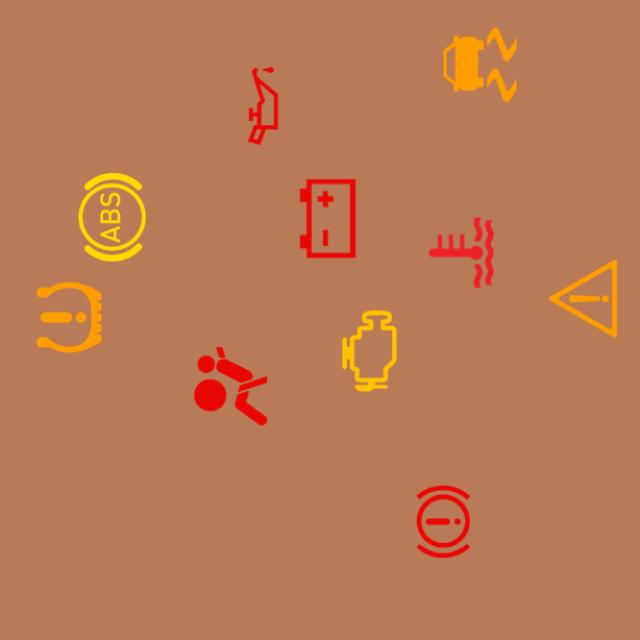Anti Lock Braking System: (64, 169, 160, 266)
Braking System Issue: (395, 473, 492, 570)
Charging System Issue: (279, 170, 376, 267)
Check Engine: (321, 302, 418, 399)
Electronic Stability Problem -ESP-: (432, 17, 528, 114)
Engine Overheating Warning Light: (412, 205, 510, 302)
Low Engine Oil Warning Light: (215, 58, 312, 154)
Low Tire Pressure Warning Light: (21, 269, 118, 366)
Master warning light: (534, 250, 632, 347)
SRS-Airbag: (182, 338, 280, 434)
